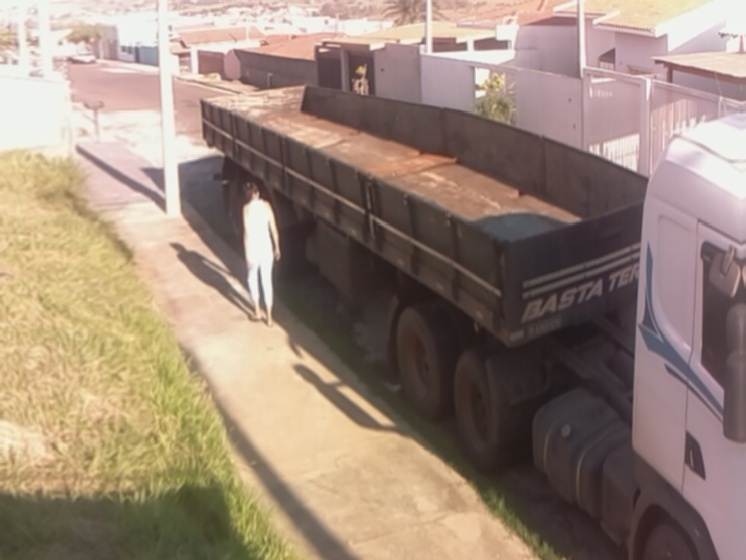person: (238, 177, 279, 329)
